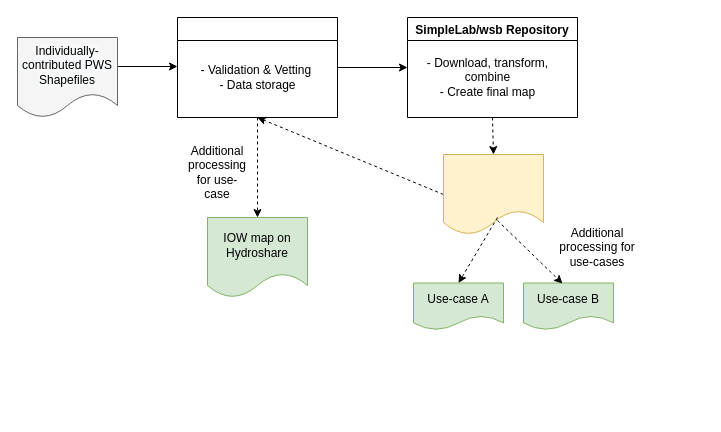
Some shapes in this 721 by 432 pixel diagram are drawn without their labels. Each missing label, with the box of its shape:
IOW/cgs-earth Repository: (176, 16, 338, 118)
Open-source master layer on Hydroshare: (442, 154, 544, 234)
